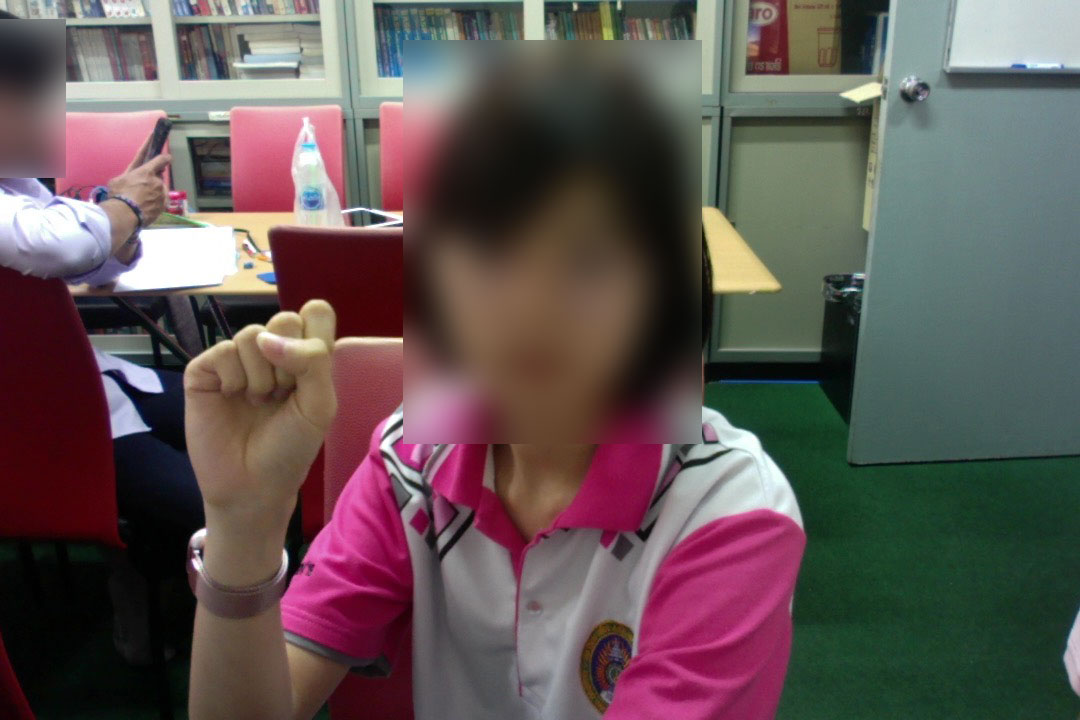sor: (174, 289, 345, 528)
